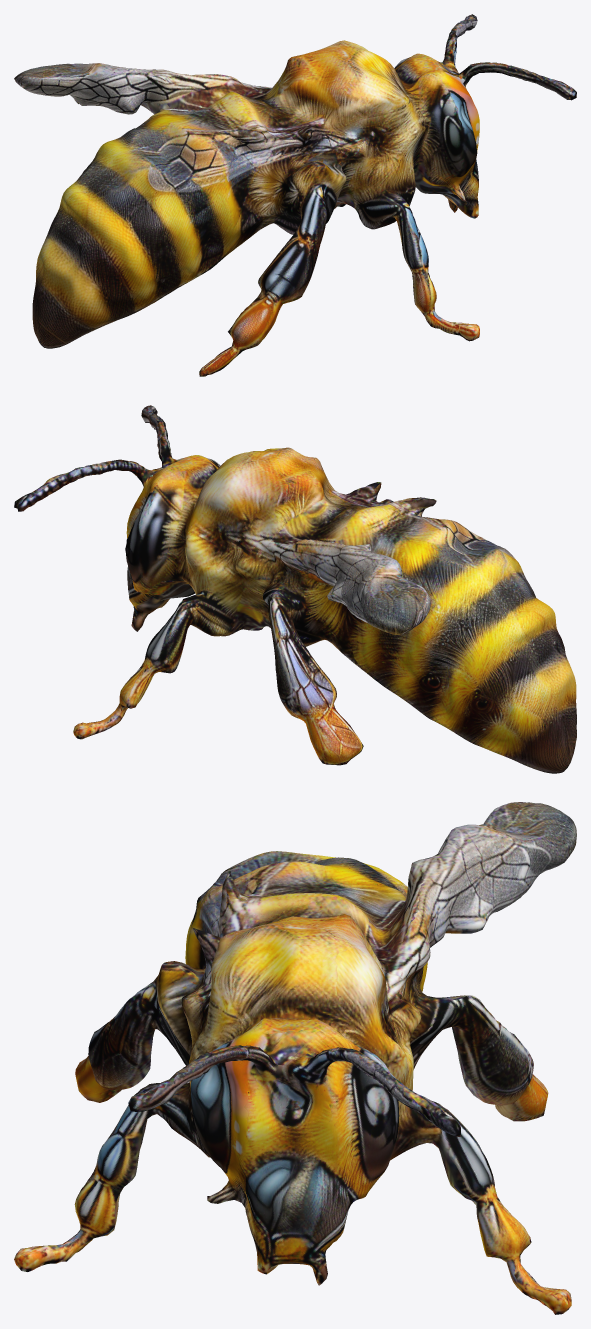
Rendered from bee-8k.glb.
3 views of the same model, one above another, from view 1: azimuth 30°, elevation 25°; view 2: azimuth 150°, elevation 25°; view 3: azimuth 270°, elevation 25° (orthographic). The views are drawn at different scales.
Bounding box in the file's own units: 1.2 × 0.5384 × 0.8415.
1 material, 1 textured.
